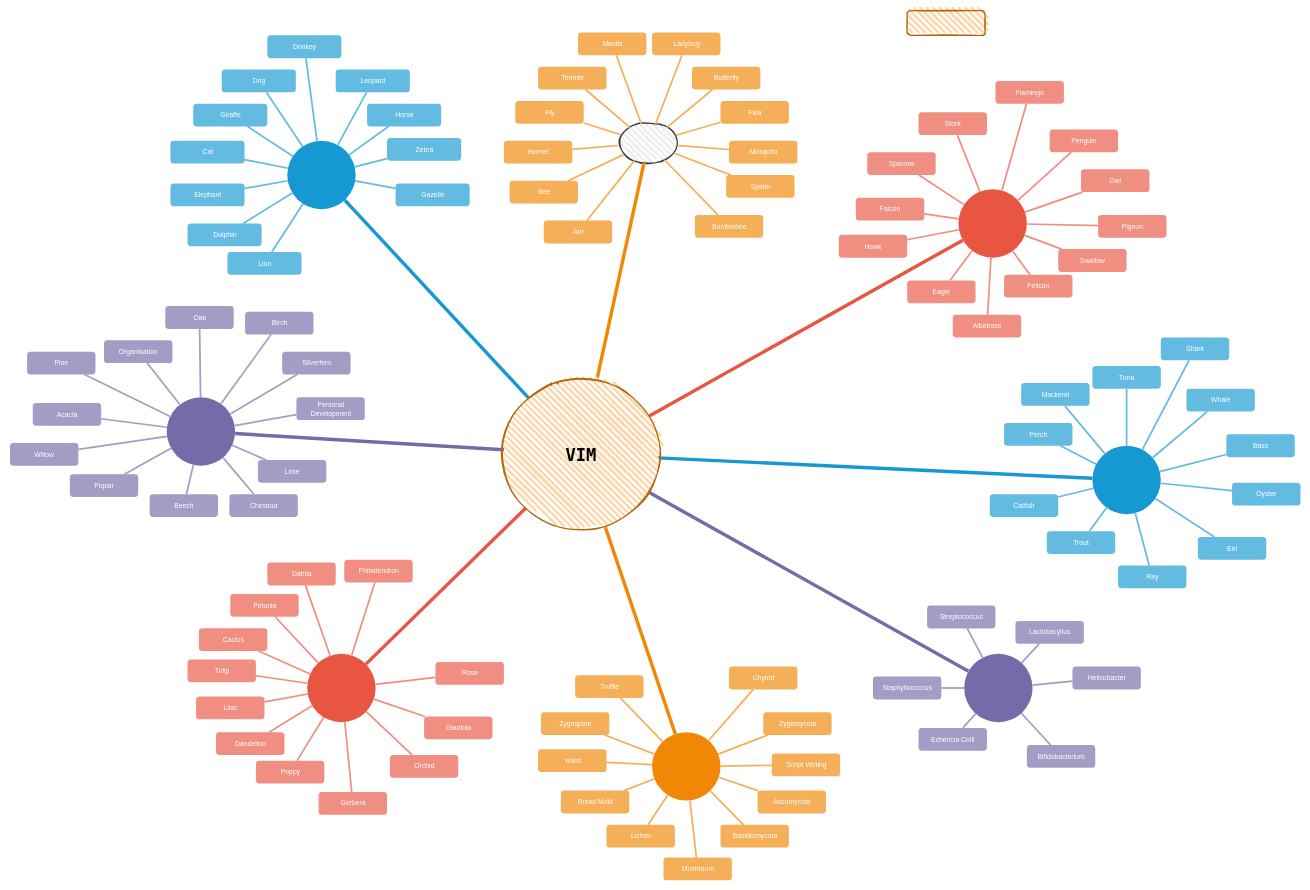
The diagram is 1310 pixels wide and 890 high, and some of its shapes have lost their labels. Here are the shapes that lost their labels. From the top down, the box of each, then its label:
(906, 10, 985, 36): 你好
(617, 123, 679, 163): 移动
(287, 141, 355, 209): Mammal
(958, 189, 1027, 257): Bird
(166, 397, 235, 465): Tree
(1092, 445, 1161, 514): Fish
(307, 654, 375, 722): Flower
(964, 654, 1032, 722): Bacteria
(652, 732, 720, 800): Fungi
